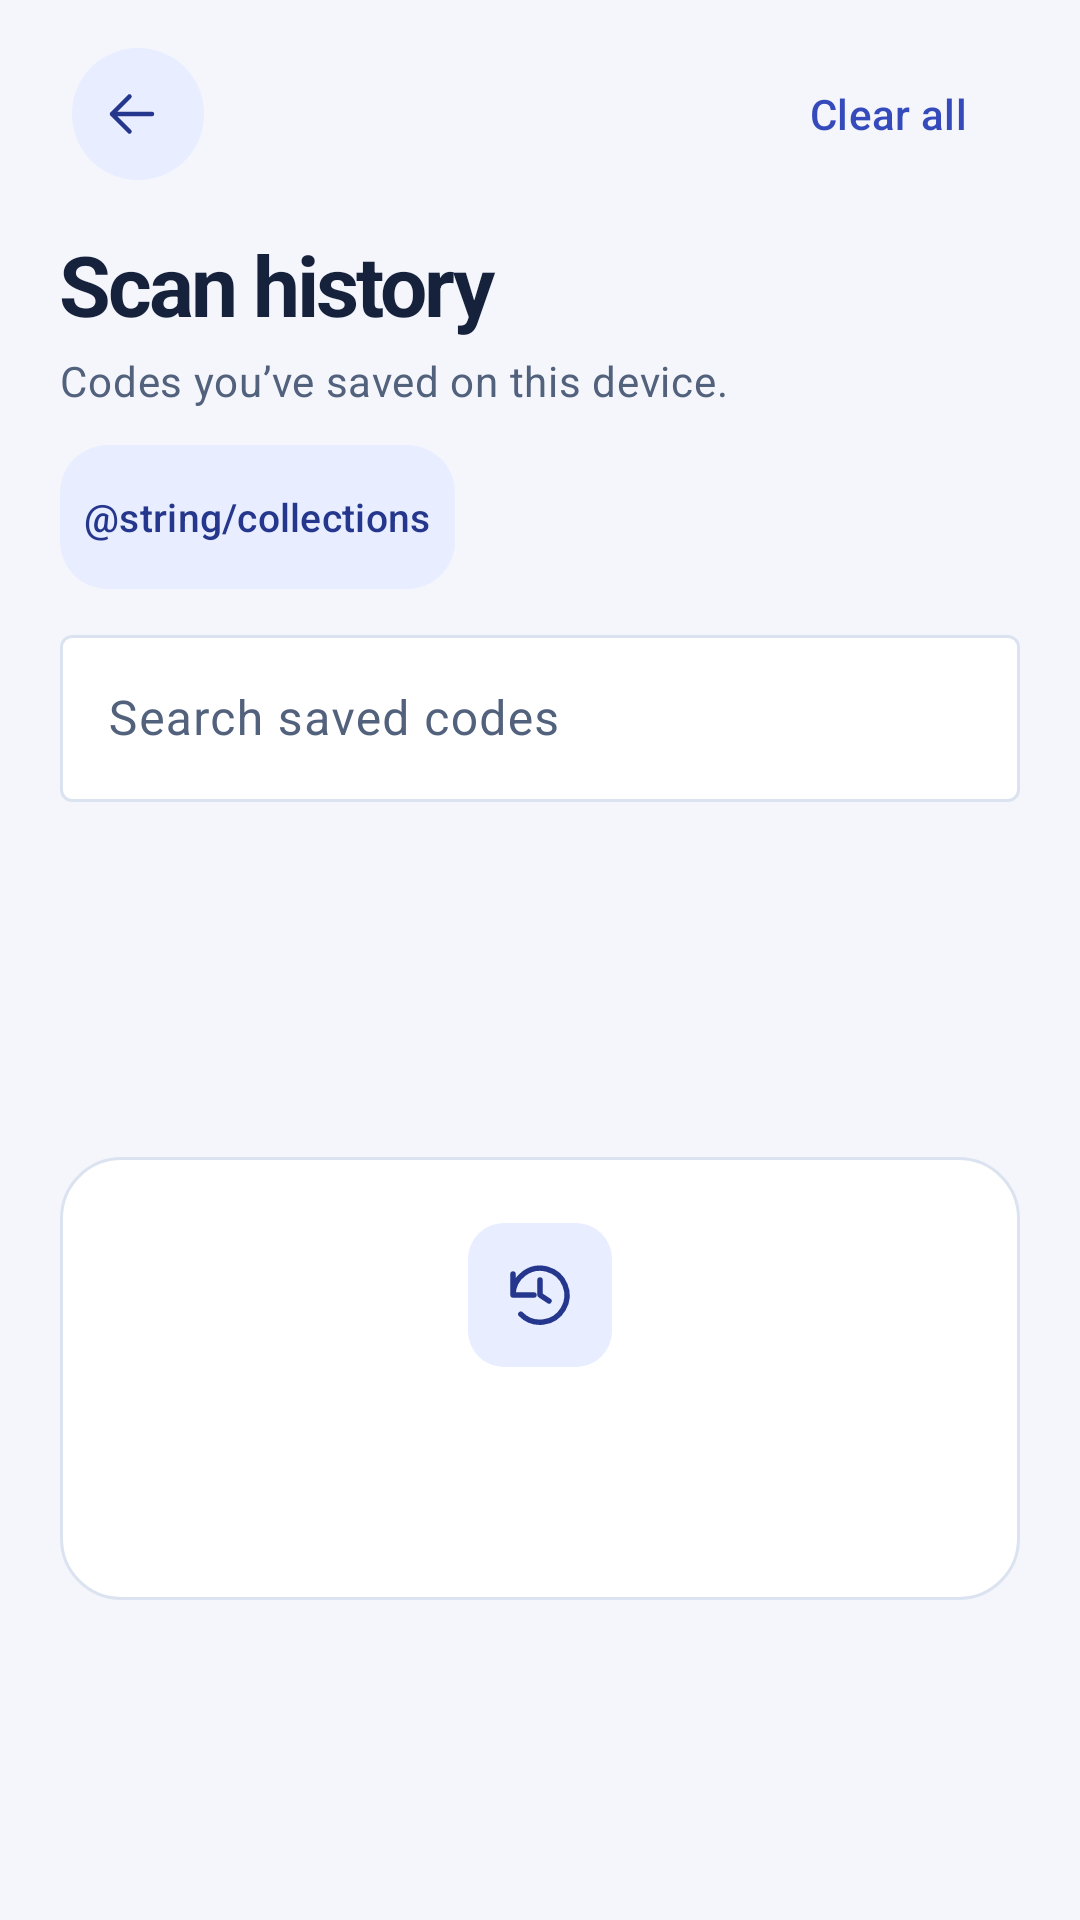

Screen size 1080 × 1920. Icon name, then its center in pixels as [x,y]:
Back: [138,114]
history: [540,1295]
